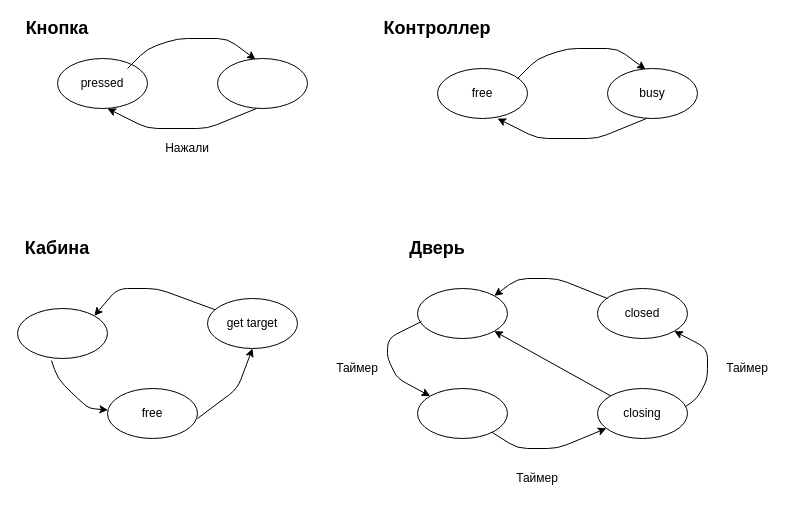
This 786x505 diagram has some shape labels left out. The box of each missing label's shape, as (x1, y1, x2, y2) in pixels:
moving: (16, 308, 108, 358)
opened: (416, 388, 508, 438)
opening: (416, 288, 508, 338)
unpressed: (216, 58, 308, 108)
